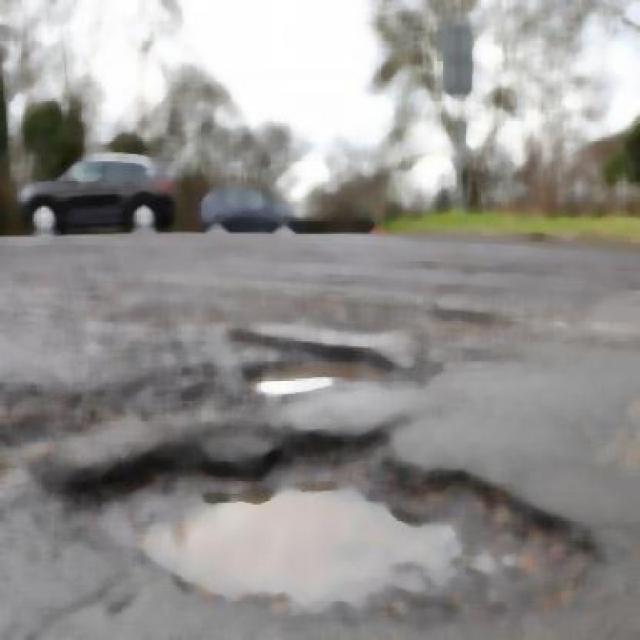Pothole: (82, 432, 560, 636), (236, 322, 376, 408)
